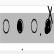correct: (16, 18, 24, 36)
no answer: (30, 15, 38, 36), (3, 18, 10, 35)
not correct: (44, 5, 54, 37)
